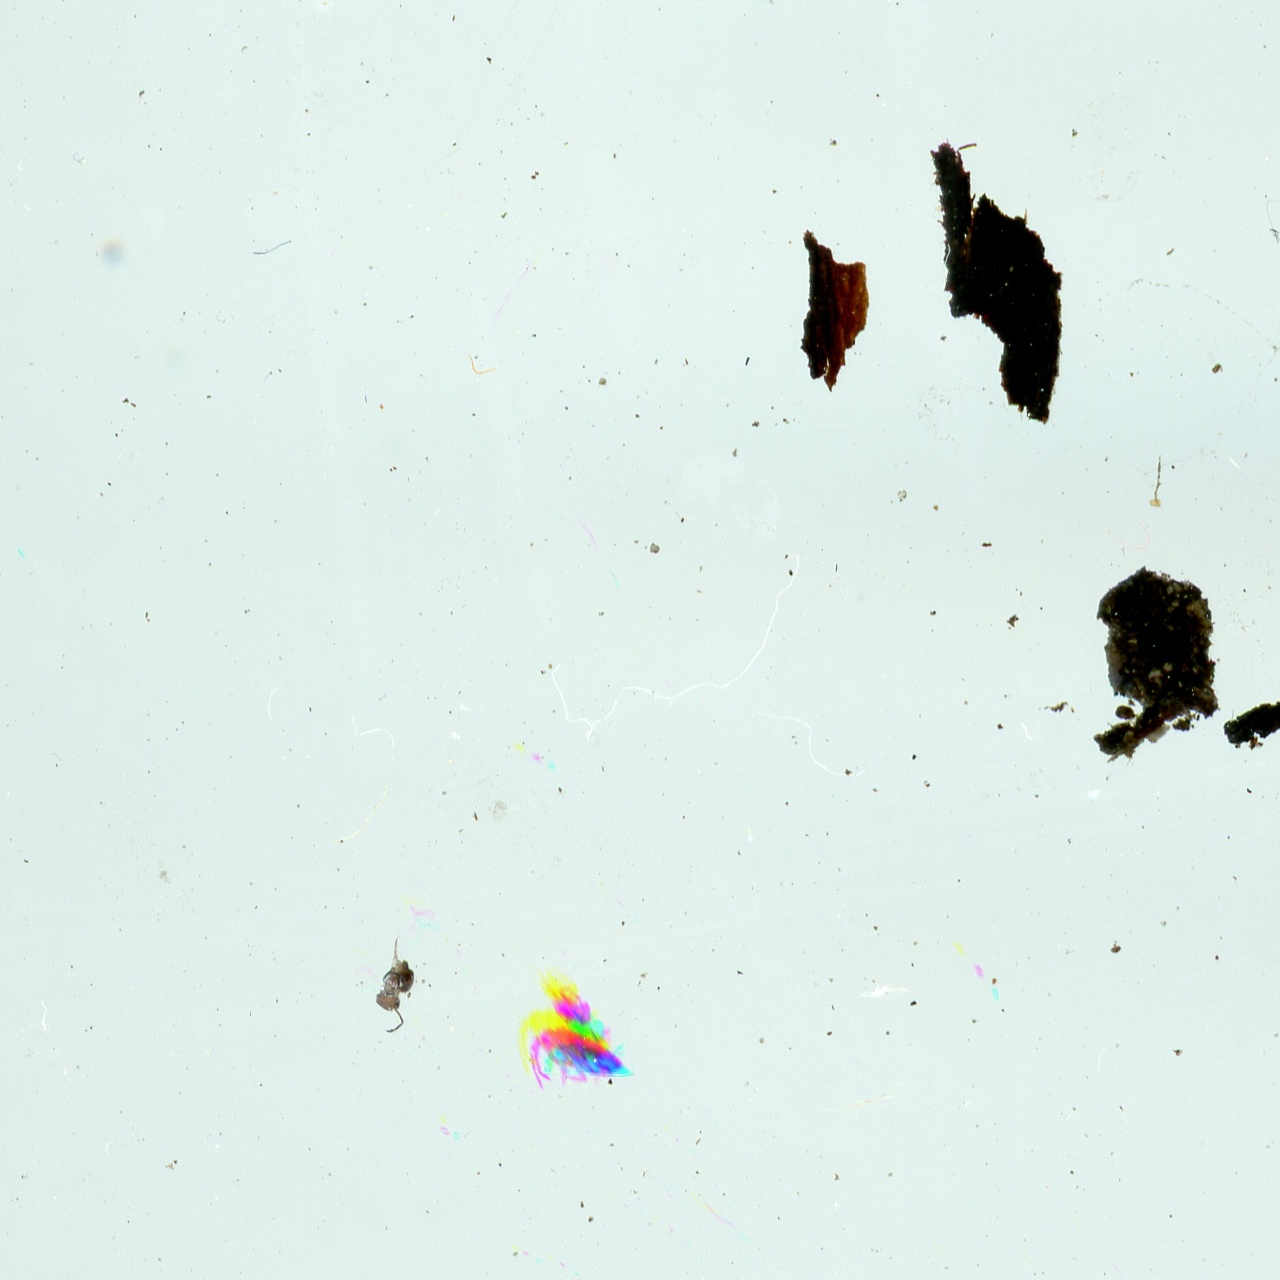arthropod: (524, 1021, 630, 1091), (373, 935, 417, 1033), (545, 976, 599, 1024)
